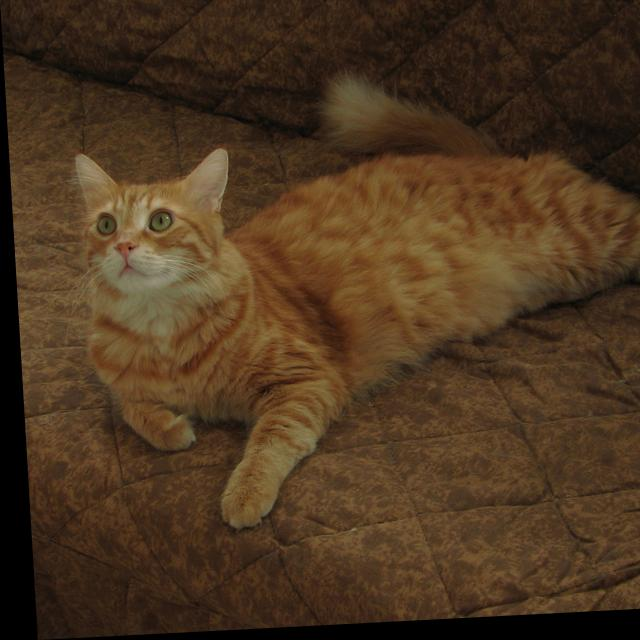animals: (77, 148, 226, 259)
